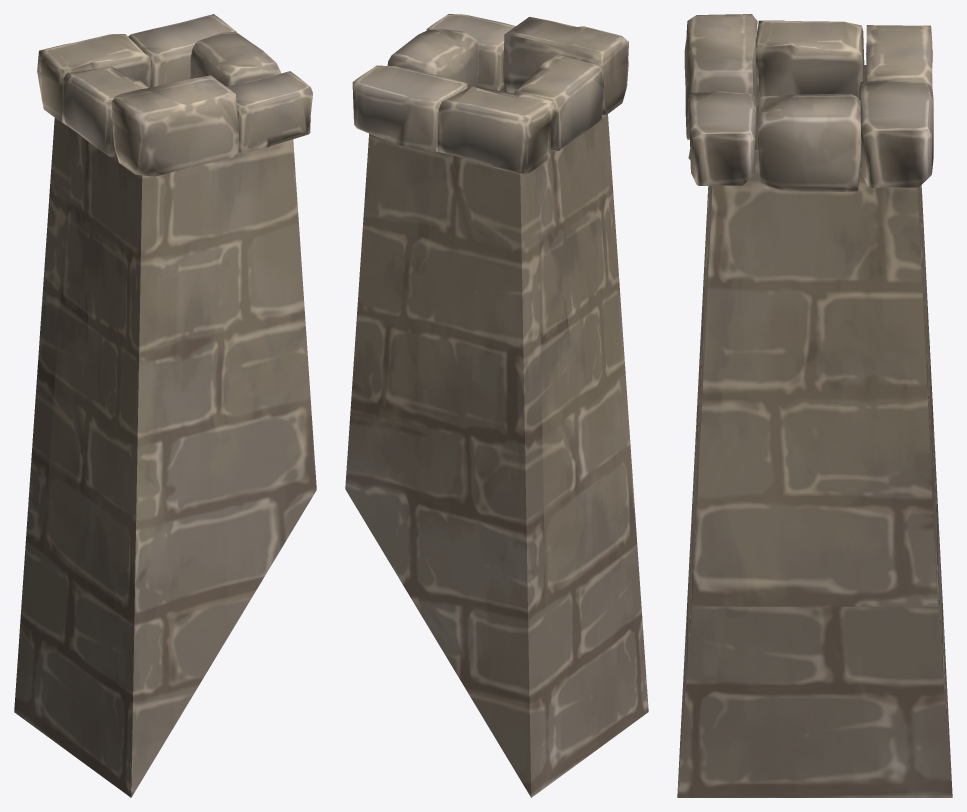
The picture shows the model from 3 angles, left to right: view 1: azimuth 30°, elevation 25°; view 2: azimuth 150°, elevation 25°; view 3: azimuth 270°, elevation 25°; orthographic projection. The views are drawn at different scales.
Visible parts, largest first — view 1: d00b912fe2b35b35972162c4997f79c4032594d2e3a4f08f541d3f054583; view 2: d00b912fe2b35b35972162c4997f79c4032594d2e3a4f08f541d3f054583; view 3: d00b912fe2b35b35972162c4997f79c4032594d2e3a4f08f541d3f054583.
Boxes of the visible parts, x1=… form: d00b912fe2b35b35972162c4997f79c4032594d2e3a4f08f541d3f054583: x1=14, y1=14, x2=316, y2=797; d00b912fe2b35b35972162c4997f79c4032594d2e3a4f08f541d3f054583: x1=345, y1=14, x2=648, y2=797; d00b912fe2b35b35972162c4997f79c4032594d2e3a4f08f541d3f054583: x1=677, y1=14, x2=952, y2=797.
Bounding box in the file's own units: 0.9458 × 3.18 × 1.
2 materials, 2 textured.
